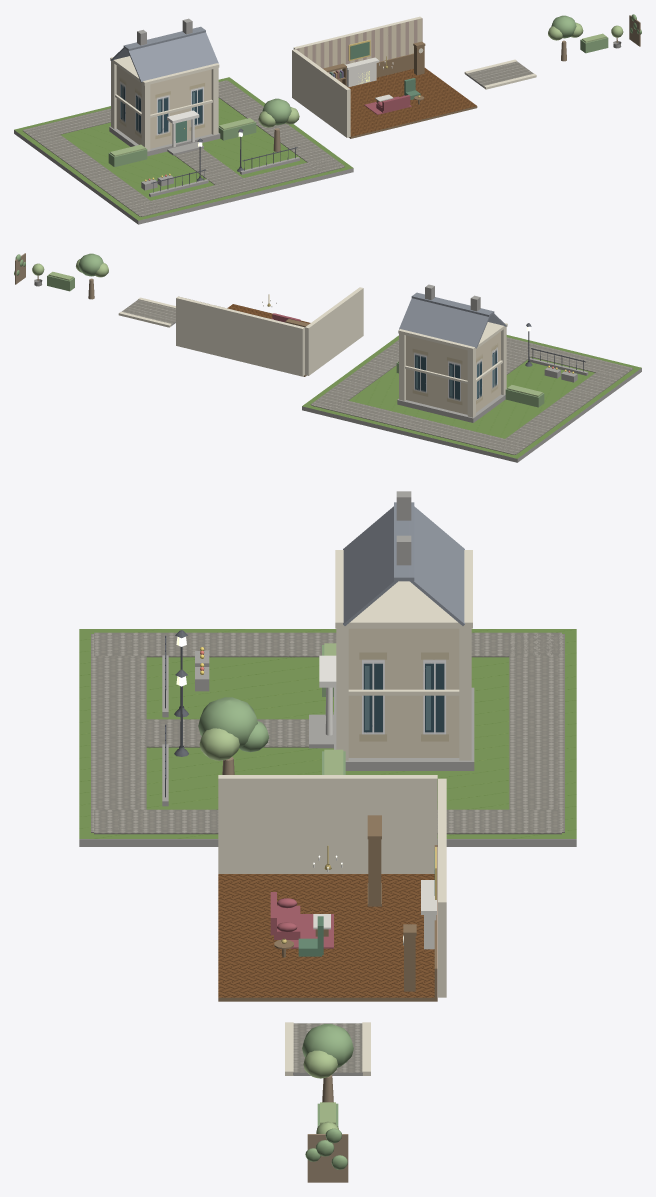
The model's file is kit-35-diorama-eropa.glb.
3 renders of one model, top to bottom at view 1: azimuth 30°, elevation 25°; view 2: azimuth 150°, elevation 25°; view 3: azimuth 270°, elevation 25°, orthographic. The views are drawn at different scales.
Parts seen in each view (by area): view 1: EropaDio_Eksterior, EropaDio_InteriorLengkap, EropaDio_TanamanKhas, EropaDio_JalanCobble; view 2: EropaDio_Eksterior, EropaDio_InteriorLengkap, EropaDio_TanamanKhas, EropaDio_JalanCobble; view 3: EropaDio_Eksterior, EropaDio_InteriorLengkap, EropaDio_TanamanKhas, EropaDio_JalanCobble.
Part boxes in pixels (x1=…): EropaDio_Eksterior: x1=14, y1=18, x2=353, y2=224; EropaDio_InteriorLengkap: x1=292, y1=16, x2=477, y2=138; EropaDio_TanamanKhas: x1=548, y1=14, x2=641, y2=61; EropaDio_JalanCobble: x1=464, y1=59, x2=536, y2=89; EropaDio_Eksterior: x1=302, y1=284, x2=641, y2=462; EropaDio_InteriorLengkap: x1=176, y1=287, x2=363, y2=376; EropaDio_TanamanKhas: x1=14, y1=253, x2=108, y2=299; EropaDio_JalanCobble: x1=118, y1=297, x2=175, y2=327; EropaDio_Eksterior: x1=79, y1=491, x2=576, y2=846; EropaDio_InteriorLengkap: x1=218, y1=775, x2=446, y2=1001; EropaDio_TanamanKhas: x1=302, y1=1024, x2=353, y2=1182; EropaDio_JalanCobble: x1=285, y1=1022, x2=370, y2=1075.
Size of the model in its own units: 44.32 by 8.5 by 17.
Materials: 27 (5 with a texture image).
